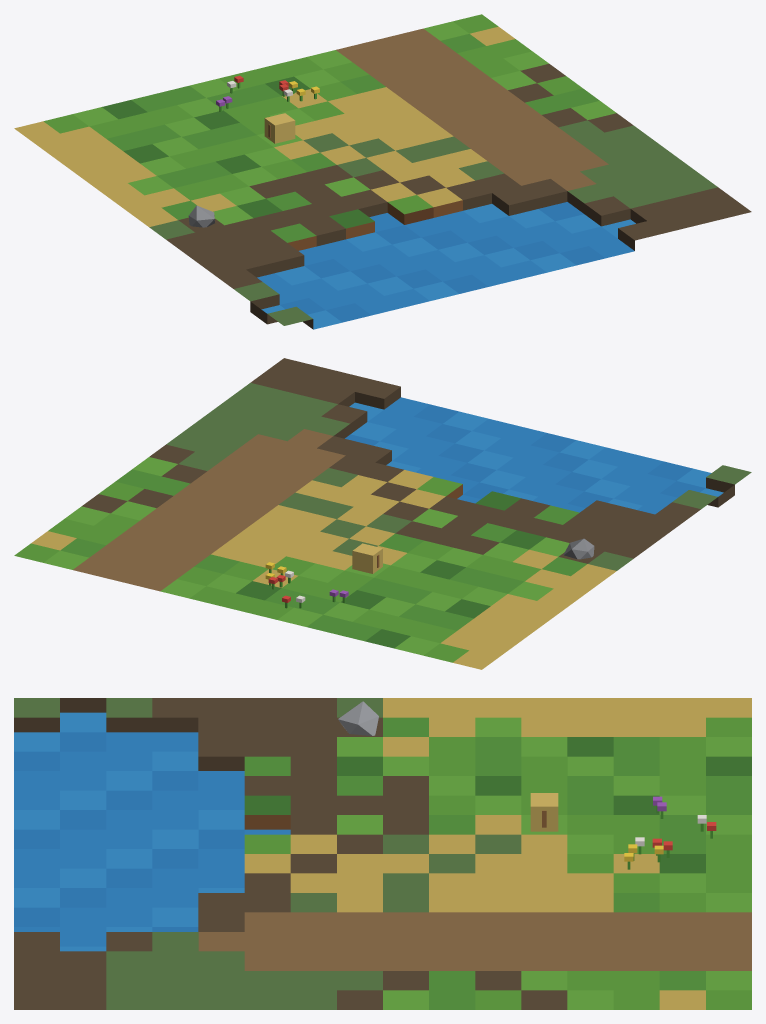
The model's file is chunk_1_14.glb.
The picture shows the model from 3 angles, top to bottom: view 1: azimuth 30°, elevation 25°; view 2: azimuth 150°, elevation 25°; view 3: azimuth 270°, elevation 25°; orthographic projection. The views are drawn at different scales.
Visible parts, largest first — view 1: chunk_1_14; view 2: chunk_1_14; view 3: chunk_1_14.
Part boxes in pixels (x1,y1,x2,y2): chunk_1_14: [14, 14, 751, 329]; chunk_1_14: [14, 358, 751, 669]; chunk_1_14: [14, 698, 751, 1009].
Bounding box in the file's own units: 16 × 0.95 × 16.
